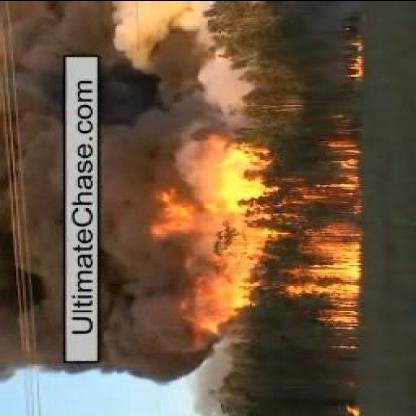-: (10, 51, 58, 377), (105, 26, 209, 176)
foggia-v2-map80-epoch100 - v1 4323: (306, 242, 362, 294)
